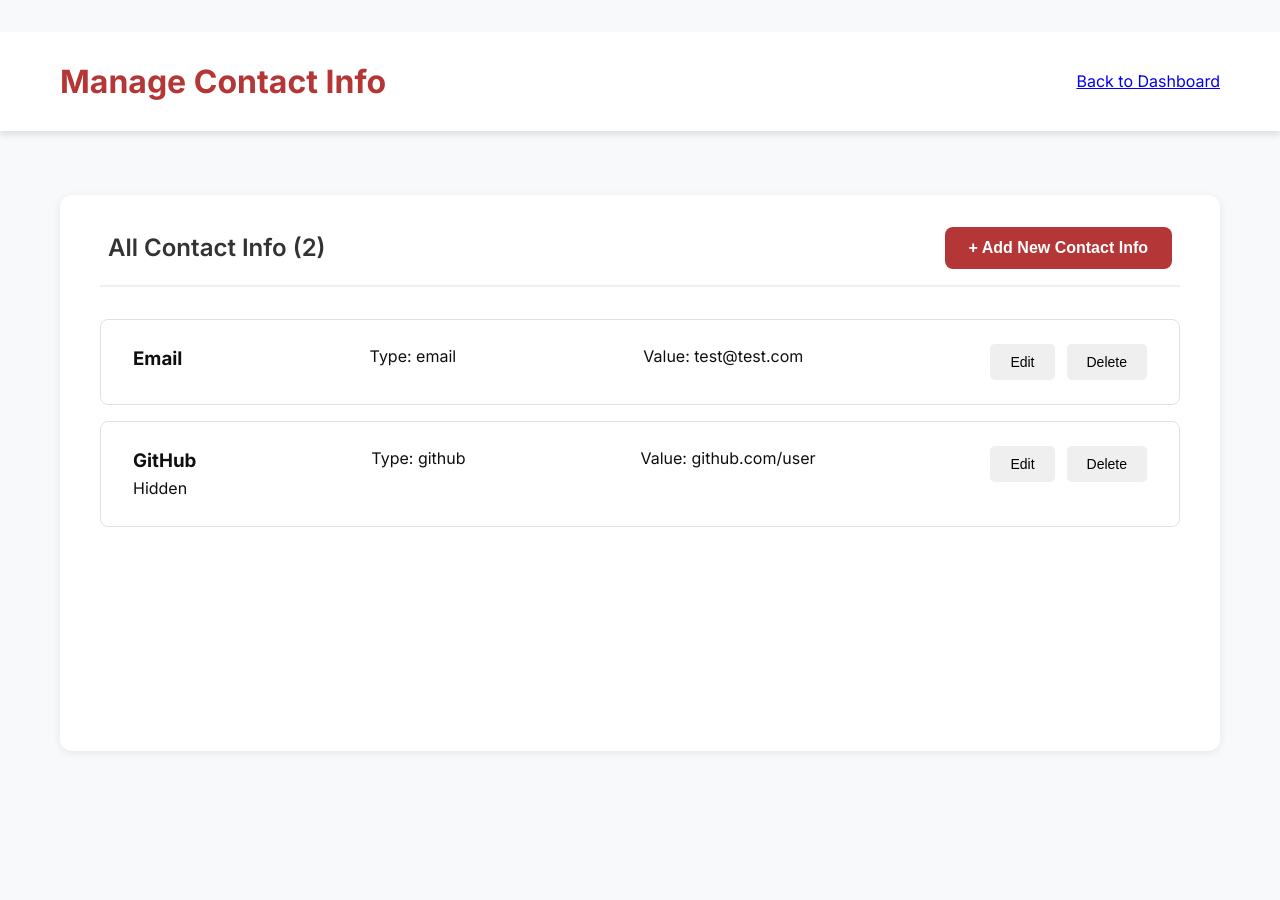
AdminContactInfo › handles delete error with message fallback
The width and height of the screenshot is (1280, 900).
Click the button "Delete" in the row of "test@test.com" at point(1107, 362), box x1=1066 y1=344 x2=1147 y2=380
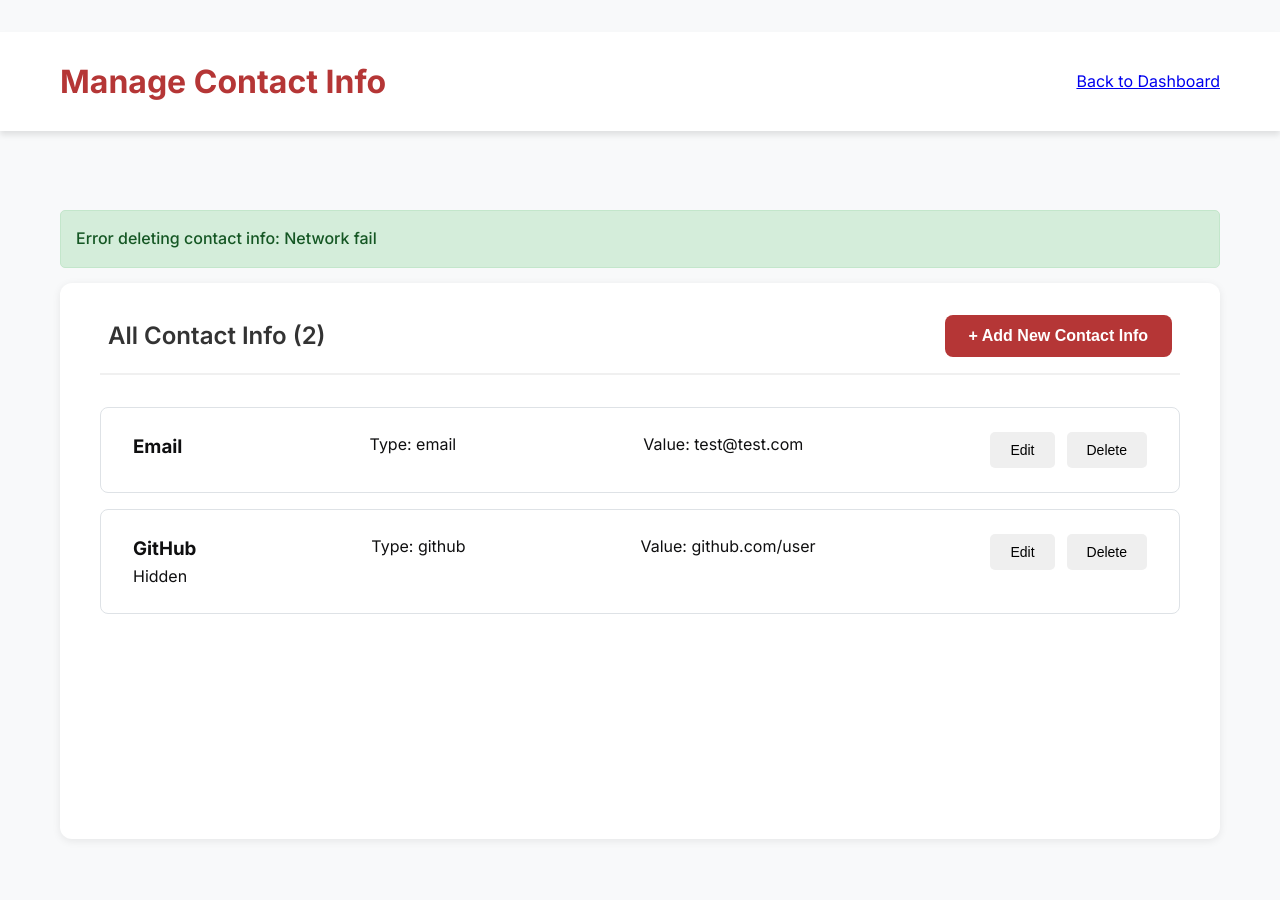
Now the text "Error deleting contact info: Network fail" is shown, box x1=60 y1=210 x2=1220 y2=268
